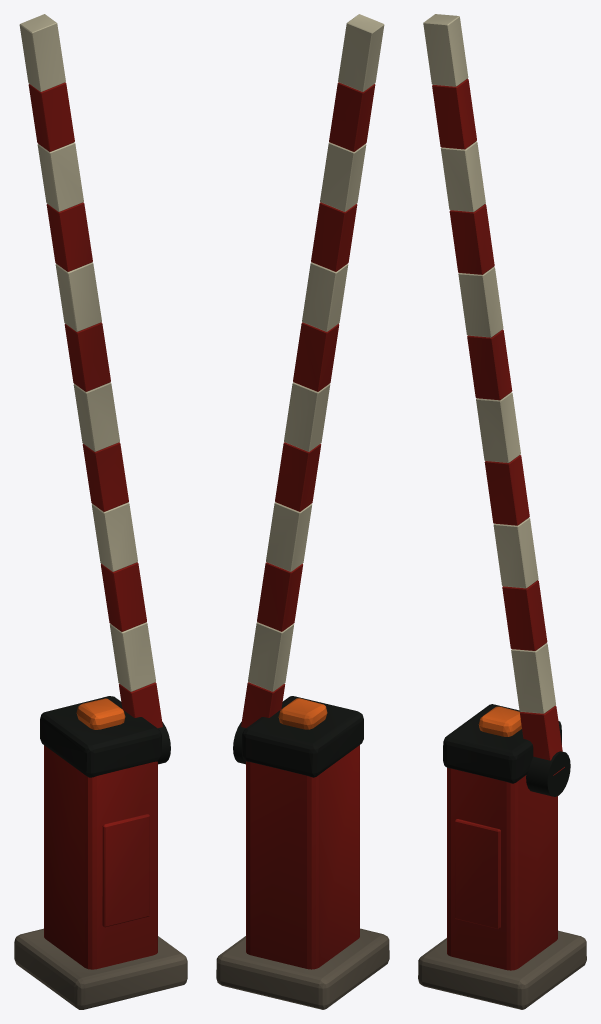
File: MetalSteezy_Barriere_Levee.fbx
3 renders of one model, left to right at view 1: azimuth 30°, elevation 25°; view 2: azimuth 150°, elevation 25°; view 3: azimuth 330°, elevation 25°, orthographic. The views are drawn at different scales.
Parts seen in each view (by area): view 1: MetalSteezy_Barriere_Levee; view 2: MetalSteezy_Barriere_Levee; view 3: MetalSteezy_Barriere_Levee.
Boxes of the visible parts, x1,y1,x2,y2 form: MetalSteezy_Barriere_Levee: (14,14,187,1009); MetalSteezy_Barriere_Levee: (216,14,389,1009); MetalSteezy_Barriere_Levee: (418,14,586,1009).
Bounding box in the file's own units: 0.8677 × 0.754 × 6.01.
